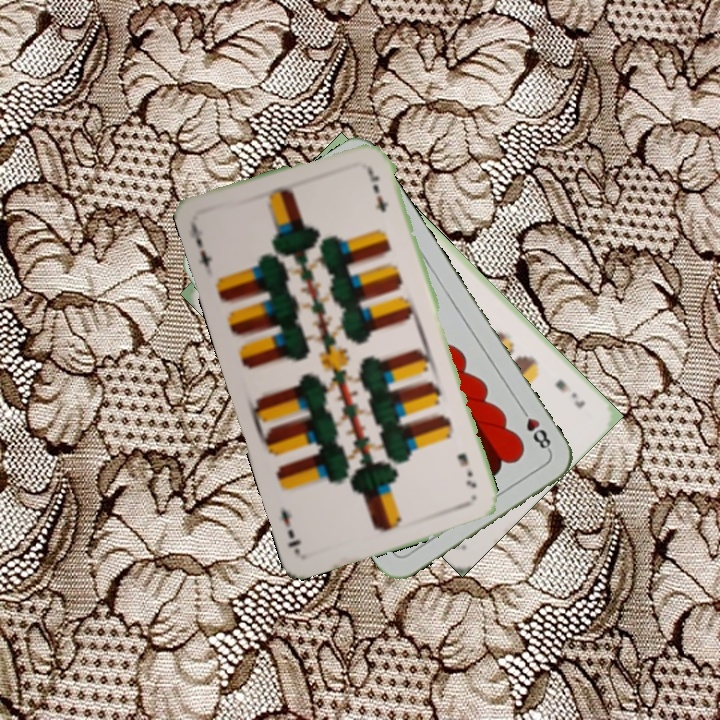E7: (551, 375, 588, 411), (453, 449, 479, 491), (191, 232, 215, 271)
H8: (515, 402, 554, 455)
